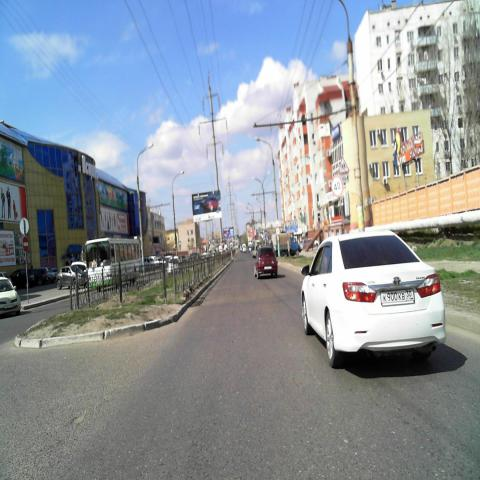1_23: (338, 156, 350, 174)
3_24: (331, 176, 343, 196)
